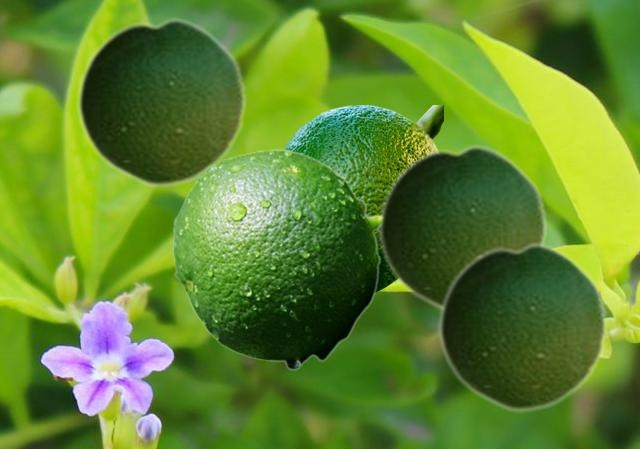dalandan: (172, 148, 382, 370), (283, 105, 442, 292), (76, 15, 246, 188), (437, 240, 607, 413), (377, 142, 547, 312)
